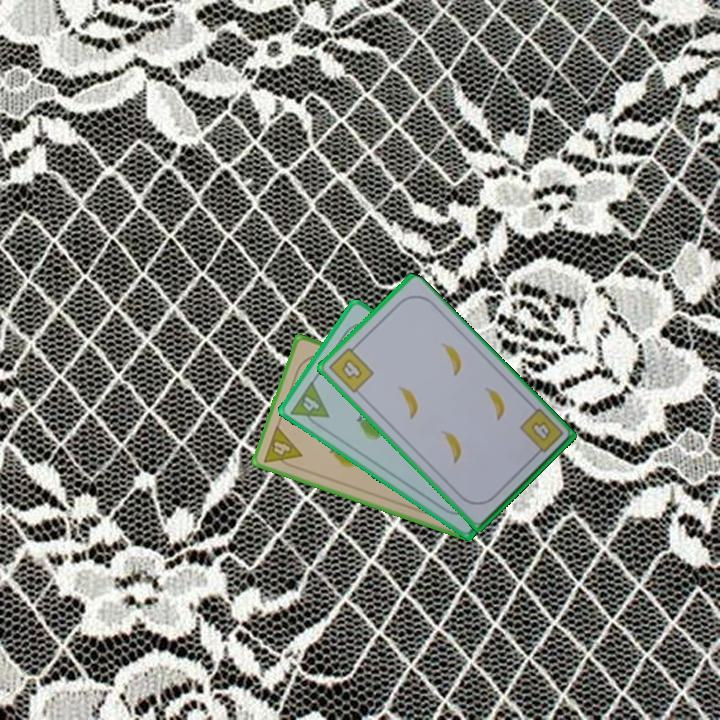4b: (325, 341, 377, 396), (516, 405, 566, 461)
4p: (287, 378, 332, 432), (260, 422, 305, 472)
